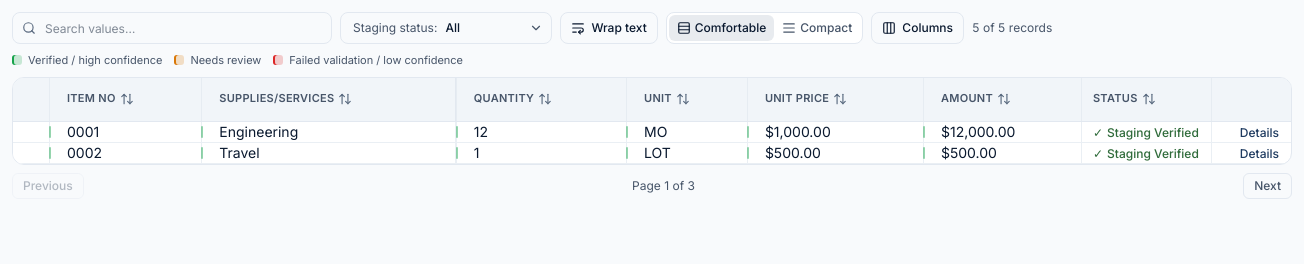
Test: StagingDatasetTable selection (contract CLINs) › shows the server's refusal
Click the cell "0001".
click(125, 132)  # box [49,122,201,142]
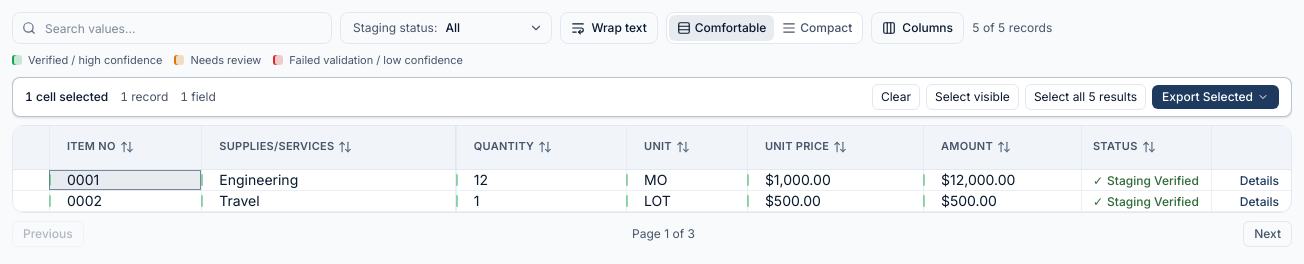
Click the button "Export Selected".
click(1216, 96)  # box [1152,84,1279,108]
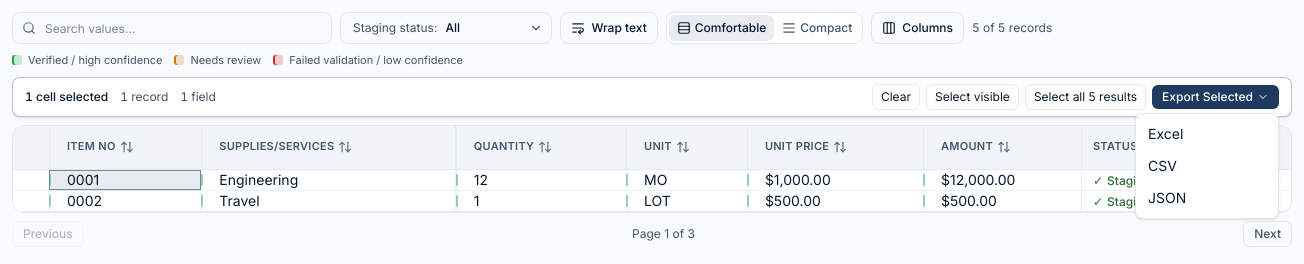
Click the menu item "Excel".
click(1207, 134)  # box [1136,118,1278,150]
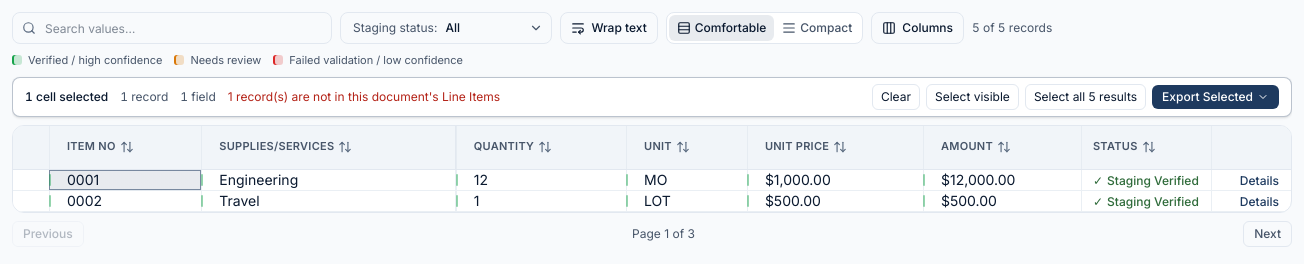
expect the text "1 record(s) are not in this document's Line Items" is shown: met, box [228,88,500,104]
